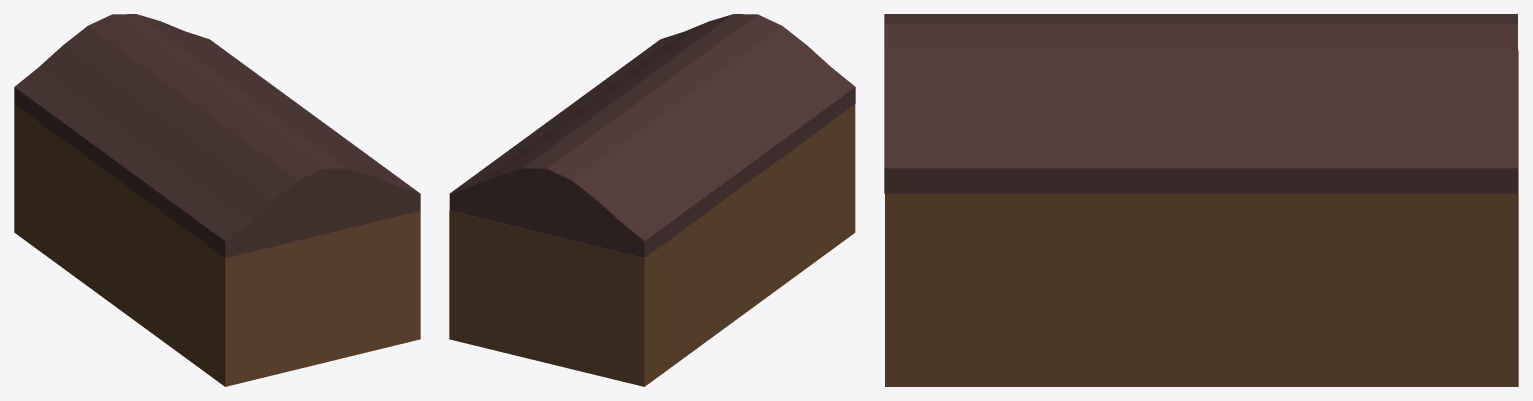
Rendered from chest.fbx.
3 views of the same model, side by side, from view 1: azimuth 30°, elevation 25°; view 2: azimuth 150°, elevation 25°; view 3: azimuth 270°, elevation 25° (orthographic). The views are drawn at different scales.
Parts seen in each view (by area): view 1: chest lead, Chest; view 2: chest lead, Chest; view 3: Chest, chest lead.
Boxes of the visible parts, x1,y1,x2,y2 form: chest lead: [14, 14, 420, 258]; Chest: [14, 104, 420, 386]; chest lead: [449, 14, 855, 257]; Chest: [449, 104, 855, 386]; Chest: [885, 50, 1518, 386]; chest lead: [884, 14, 1517, 193].
Size of the model in its own units: 0.8826 by 0.8395 by 1.65.
